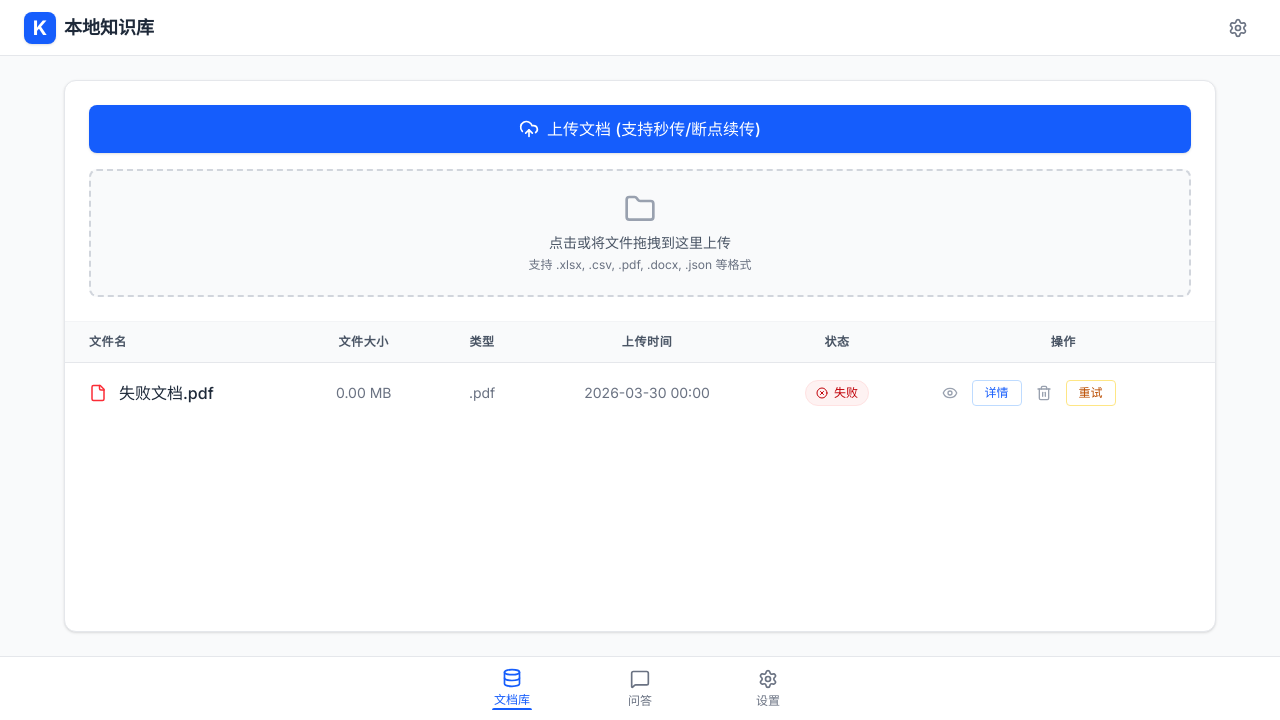
Test case: App › shows non-editable centered qa title
Step 1. Click the button "问答" → x=640, y=688, box left=600, top=668, right=680, bottom=708
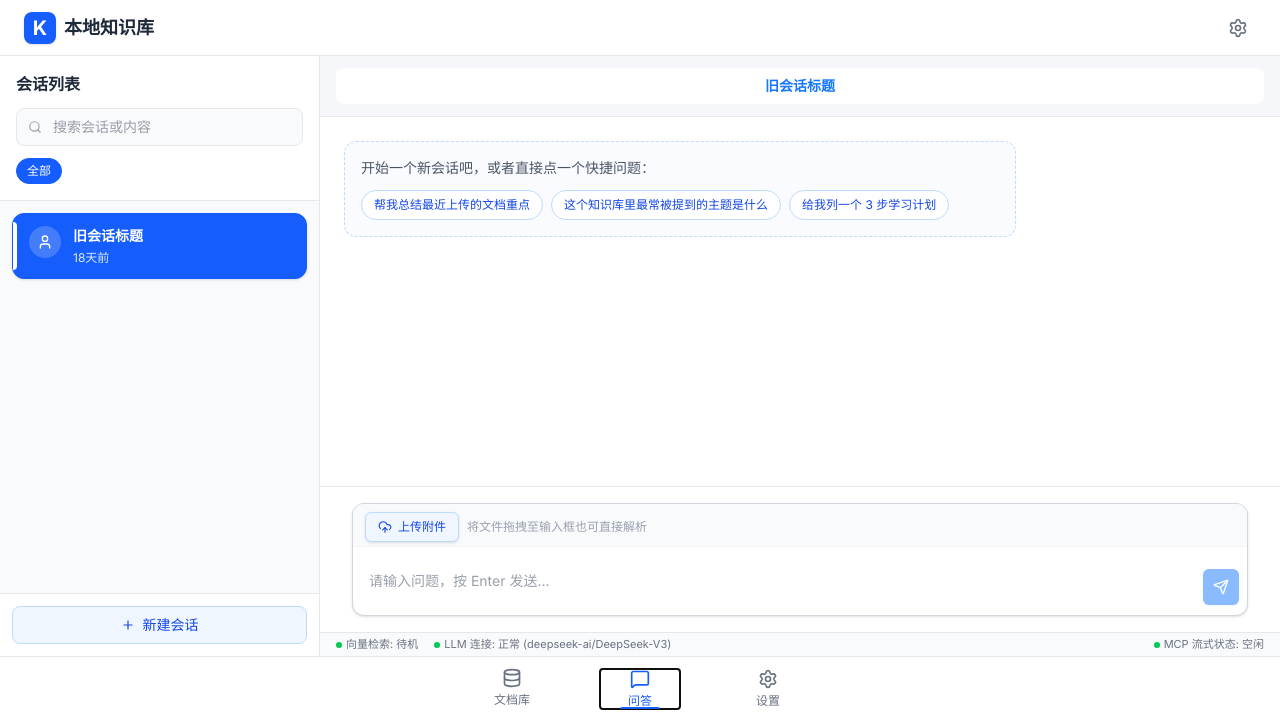
Expected: the text "旧会话标题" below "会话列表" is shown, left=73, top=227, right=143, bottom=244
